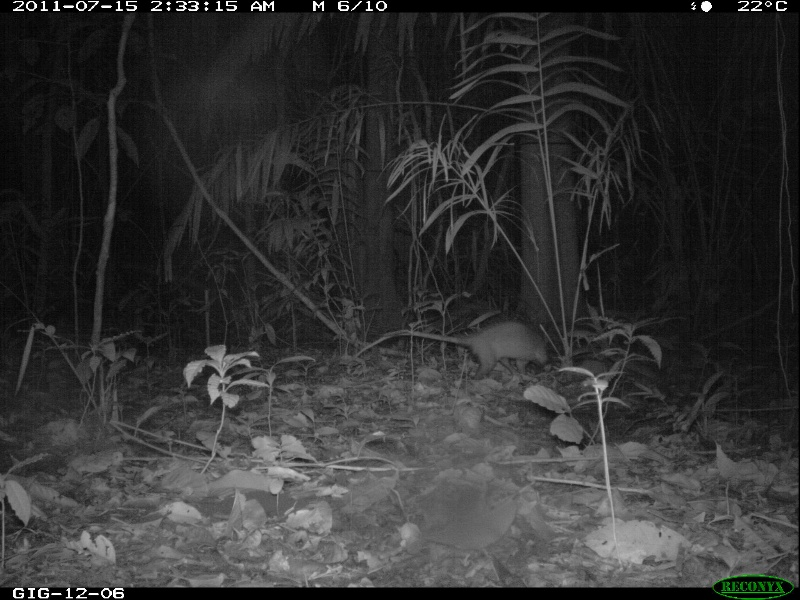opossum: (350, 316, 553, 367)
